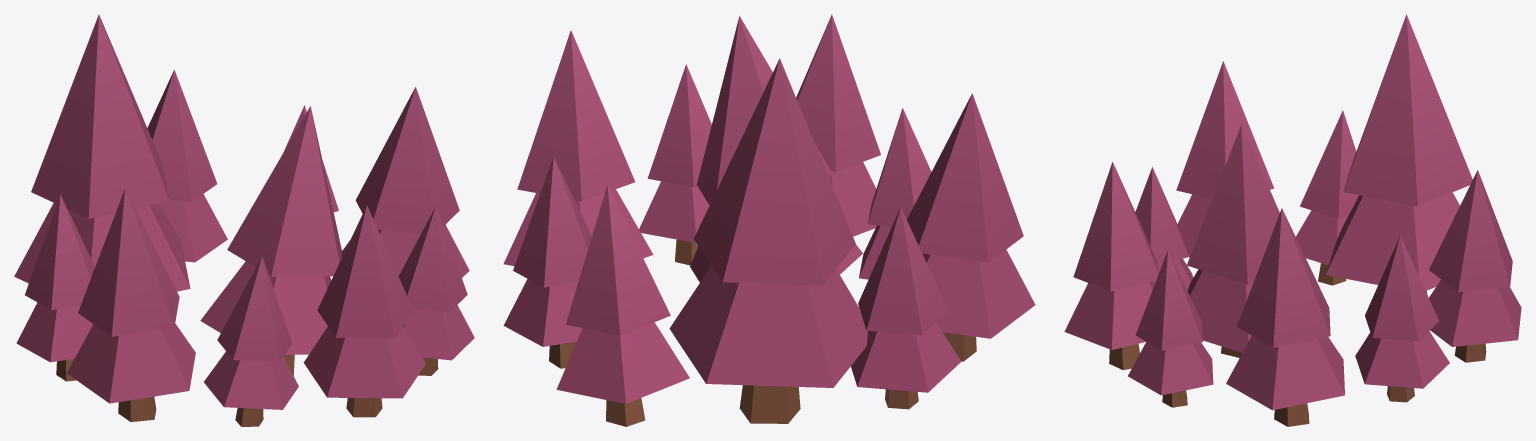
The model's file is kk_sakura_grove.glb.
The picture shows the model from 3 angles, left to right: view 1: azimuth 30°, elevation 25°; view 2: azimuth 150°, elevation 25°; view 3: azimuth 270°, elevation 25°; orthographic projection. The views are drawn at different scales.
Visible parts, largest first — view 1: trees_A_medium; view 2: trees_A_medium; view 3: trees_A_medium.
Part boxes in pixels (x1,y1,x2,y2): trees_A_medium: (14,14,474,426); trees_A_medium: (503,14,1035,426); trees_A_medium: (1064,14,1521,426).
Bounding box in the file's own units: 1.75 × 1.3 × 1.81.
